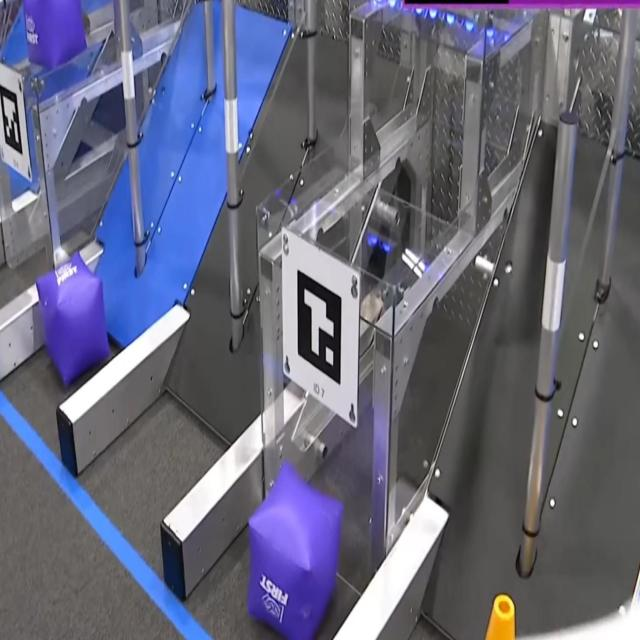frc_cone: (484, 582, 519, 640)
frc_cube: (248, 461, 344, 640), (36, 253, 110, 388), (20, 0, 86, 64)
